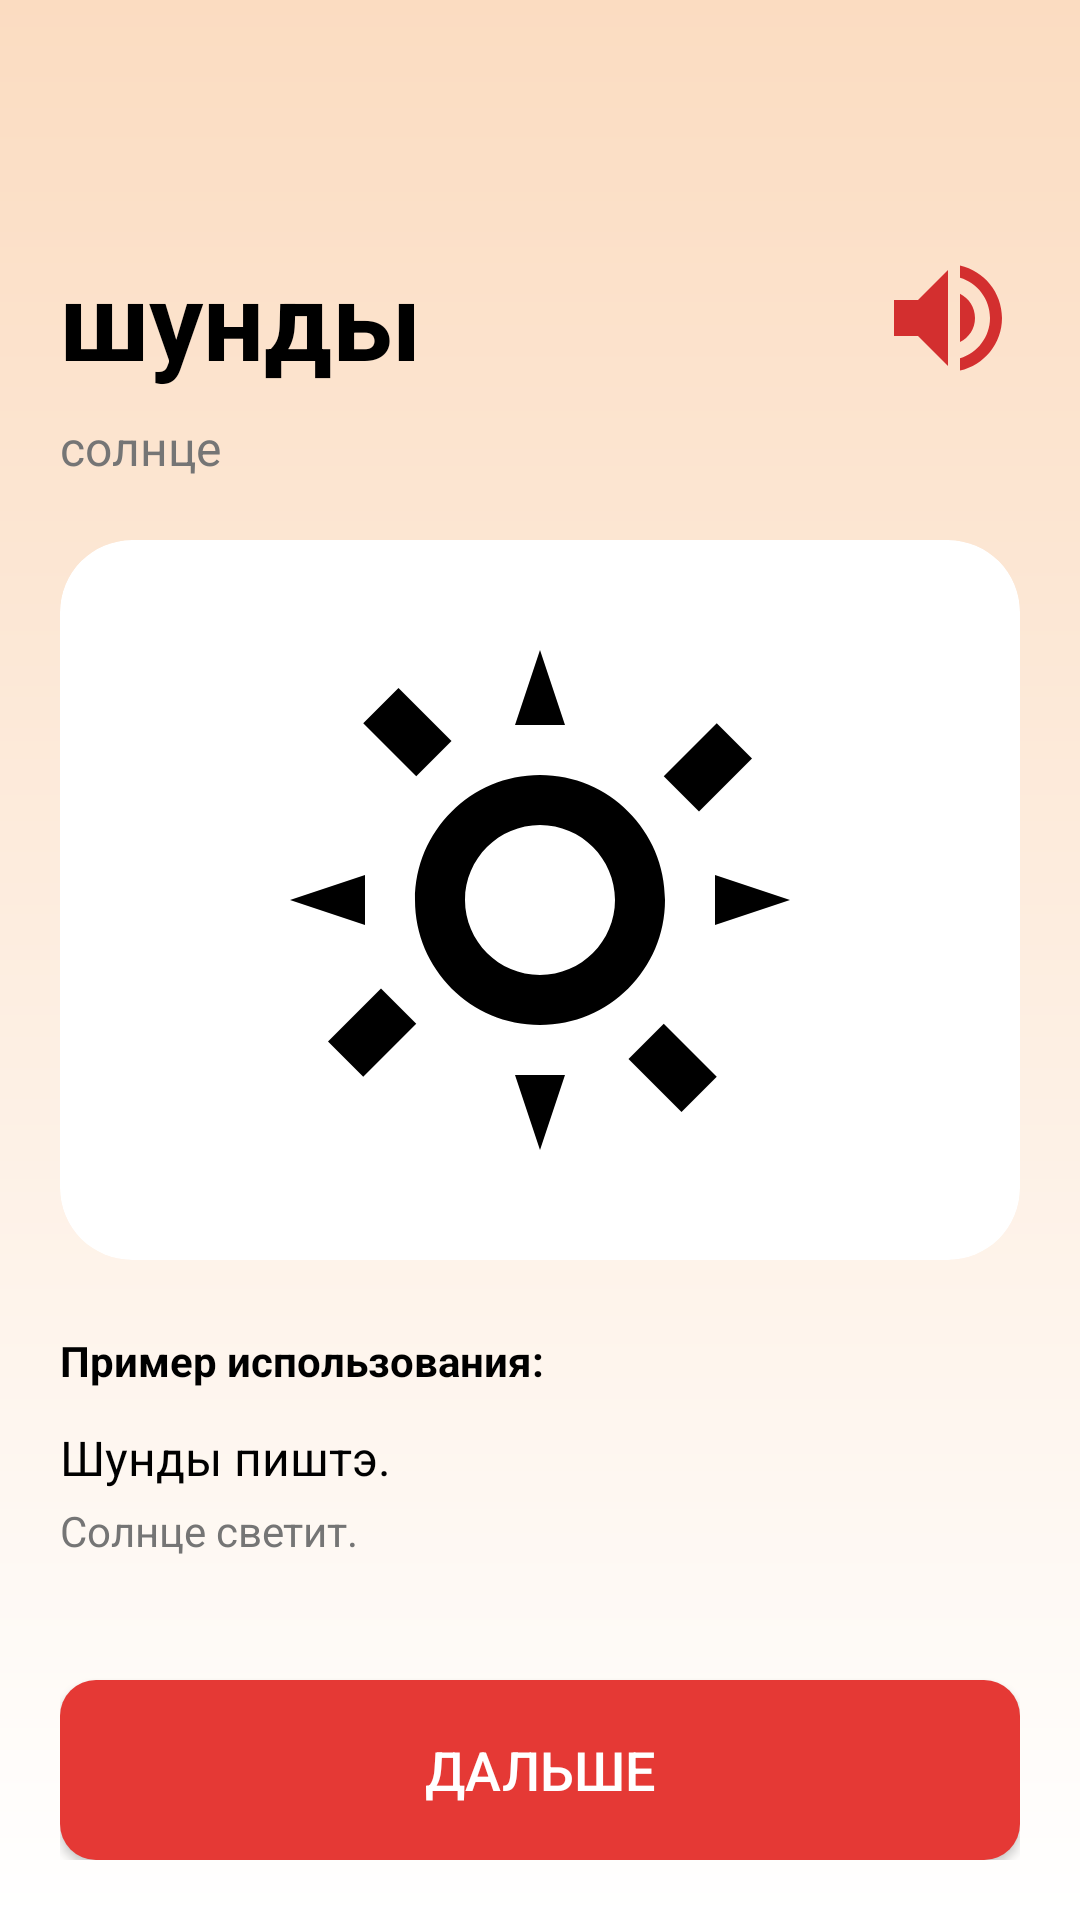

Screen size 1080 x 1920. Icon name, then its center in pixels as (x,y):
Прослушать: (948,318)
